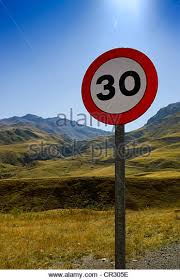Speed_limit_30km: (80, 48, 159, 124)
